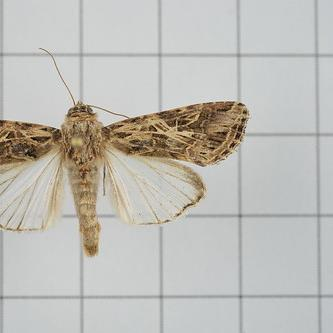Spodoptera litura: (1, 48, 251, 258)
